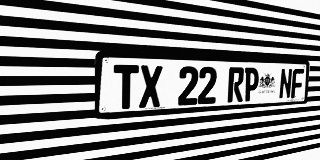2: (178, 66, 199, 106), (198, 66, 217, 104)
F: (291, 69, 304, 98)
N: (279, 68, 293, 99)
P: (243, 67, 259, 102)
R: (227, 67, 245, 103)
T: (113, 65, 139, 110)
X: (139, 65, 162, 108)
